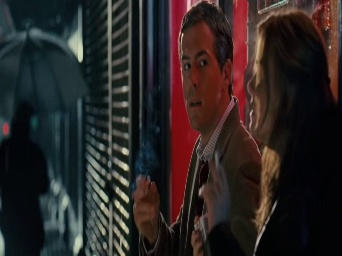smoke: (212, 150, 221, 178)
